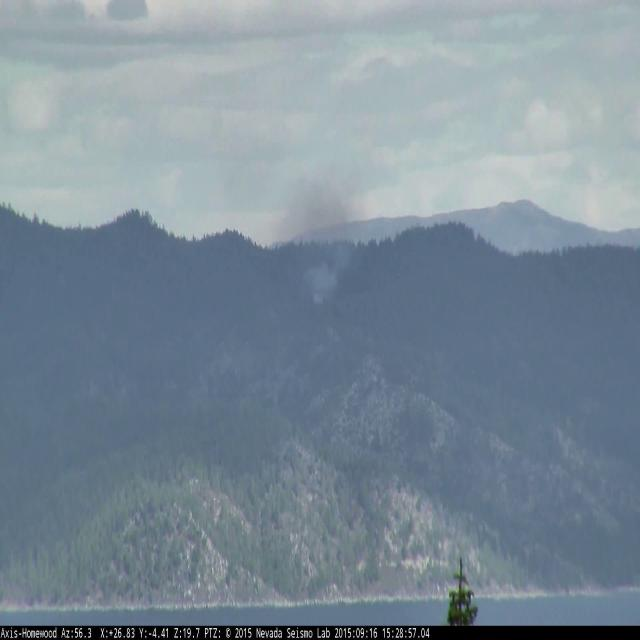smoke: (268, 147, 371, 307)
